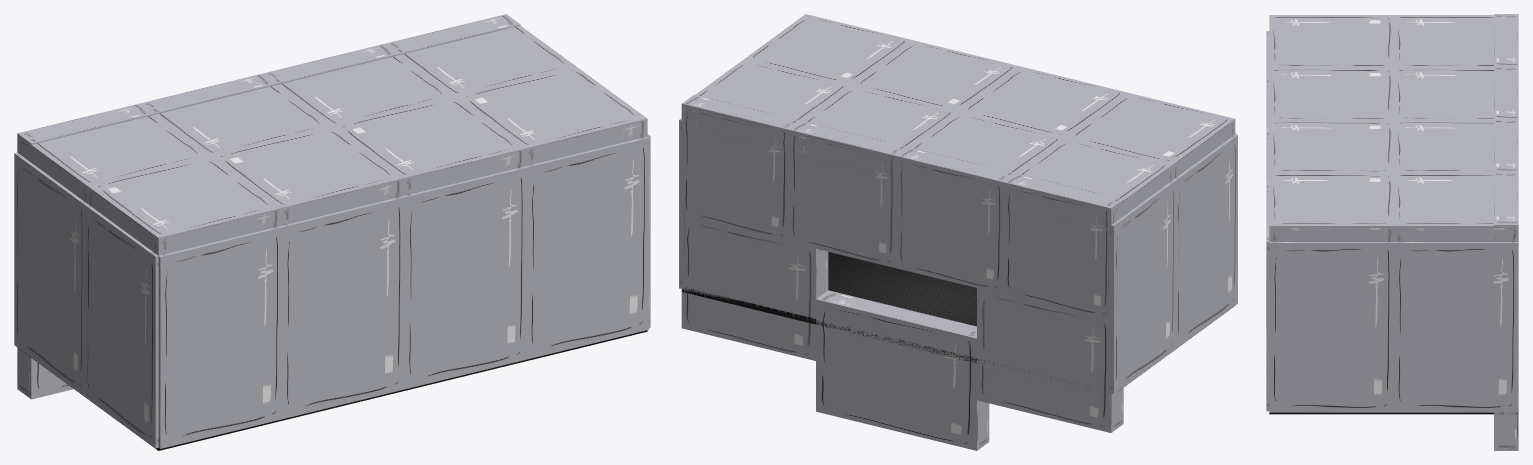
The model's file is Jeepney.fbx.
3 views of the same model, side by side, from view 1: azimuth 30°, elevation 25°; view 2: azimuth 150°, elevation 25°; view 3: azimuth 270°, elevation 25° (orthographic). The views are drawn at different scales.
Visible parts, largest first — view 1: Wall_1, Wall_3, Wall_5, Wall_4, Wall, Wall_8, Window__2_, Window__8_, Window__4_, Window__6_, Window__1_, Window__5_ (+8 smaller); view 2: Window, Wall_2, Wall_6, Window_2, Window_1, Window_4, Window_3, Wall_8, Wall, Window__2_, Window__5_, Window__1_ (+7 smaller); view 3: Wall_7, Wall_9, Window__8_, Window__7_, Window__6_, Window__2_, Window__4_, Window__5_, Window__1_, Window__3_, Window_4, Window_1 (+5 smaller).
Part boxes in pixels (x1,y1,x2,y2): Wall_1: (158,226,282,448); Wall_3: (281,196,404,418); Wall_5: (526,136,649,359); Wall_4: (403,166,526,389); Wall: (85,204,158,448); Wall_8: (14,152,87,396); Window__2_: (88,156,280,255); Window__8_: (455,67,647,166); Window__4_: (210,126,402,225); Window__6_: (333,97,525,195); Window__1_: (17,115,209,203); Window__5_: (276,55,454,126); Window: (816,290,989,450); Wall_2: (977,288,1123,432); Wall_6: (681,216,828,360); Window_2: (1004,173,1123,320); Window_1: (896,147,1015,294); Window_4: (681,94,800,241); Window_3: (789,121,908,268); Wall_8: (1108,180,1175,394); Wall: (1173,134,1237,348); Window__2_: (1066,92,1235,179); Window__5_: (789,85,957,178); Window__1_: (1004,138,1173,230); Wall_7: (1269,242,1393,412); Wall_9: (1394,242,1518,412); Window__8_: (1269,173,1393,241); Window__7_: (1394,173,1518,241); Window__6_: (1269,120,1393,173); Window__2_: (1269,15,1393,67); Window__4_: (1269,68,1393,120); Window__5_: (1394,120,1493,173); Window__1_: (1394,15,1493,67); Window__3_: (1394,68,1493,120); Window_4: (1494,172,1518,241); Window_1: (1494,66,1518,119).
Size of the model in its own units: 8100 by 4900 by 4050.
4 materials, 4 textured.
